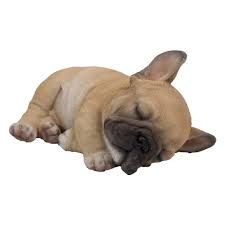Bulldog: (5, 25, 220, 183)
